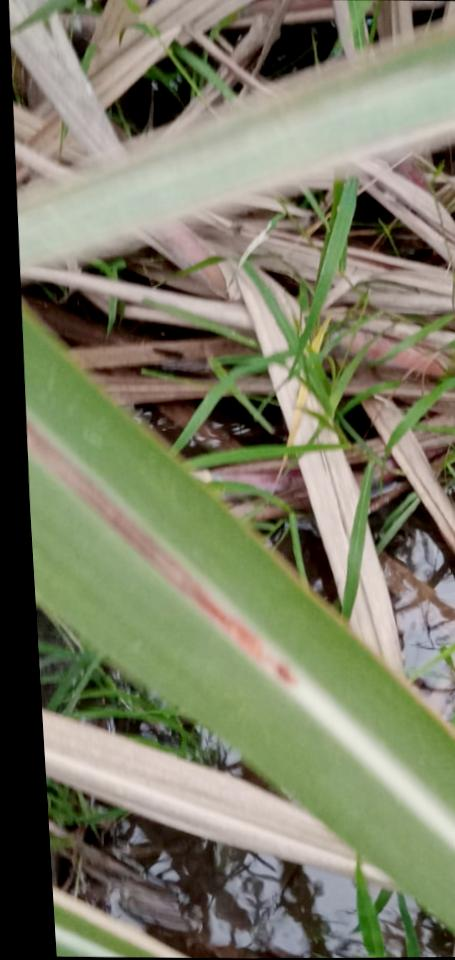RedRot: (27, 418, 295, 686)
